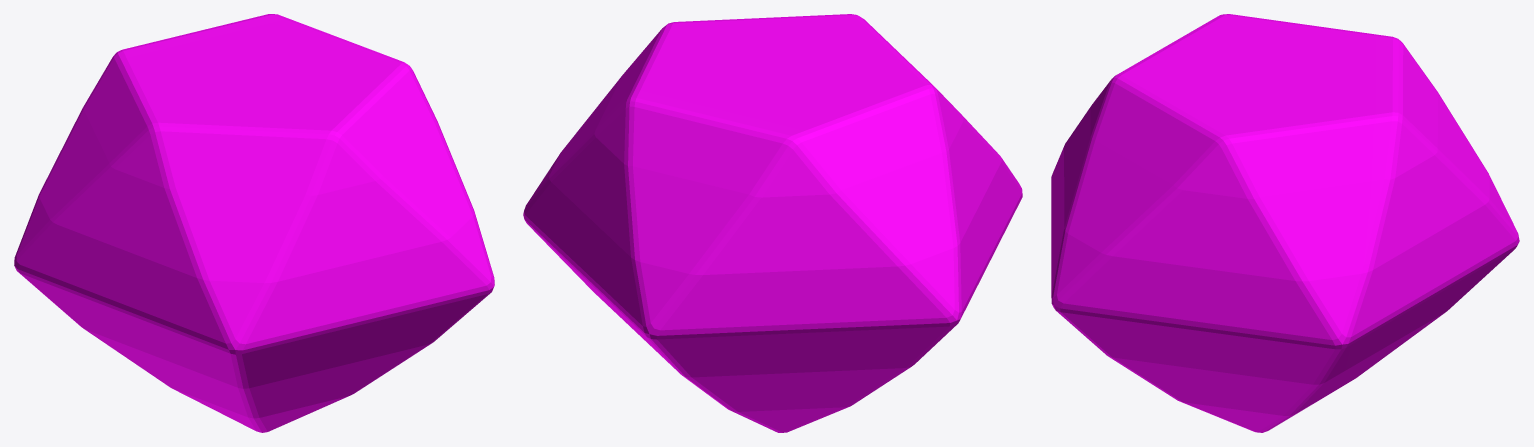
The picture shows the model from 3 angles, left to right: view 1: azimuth 30°, elevation 25°; view 2: azimuth 150°, elevation 25°; view 3: azimuth 270°, elevation 25°; orthographic projection. The views are drawn at different scales.
Parts seen in each view (by area): view 1: model_0.100; view 2: model_0.100; view 3: model_0.100.
Boxes of the visible parts, box(x1,y1,x2,y2) form: model_0.100: box(14, 14, 494, 432); model_0.100: box(523, 14, 1022, 432); model_0.100: box(1051, 14, 1519, 432).
Size of the model in its own units: 3.8 by 3.06 by 3.64.
